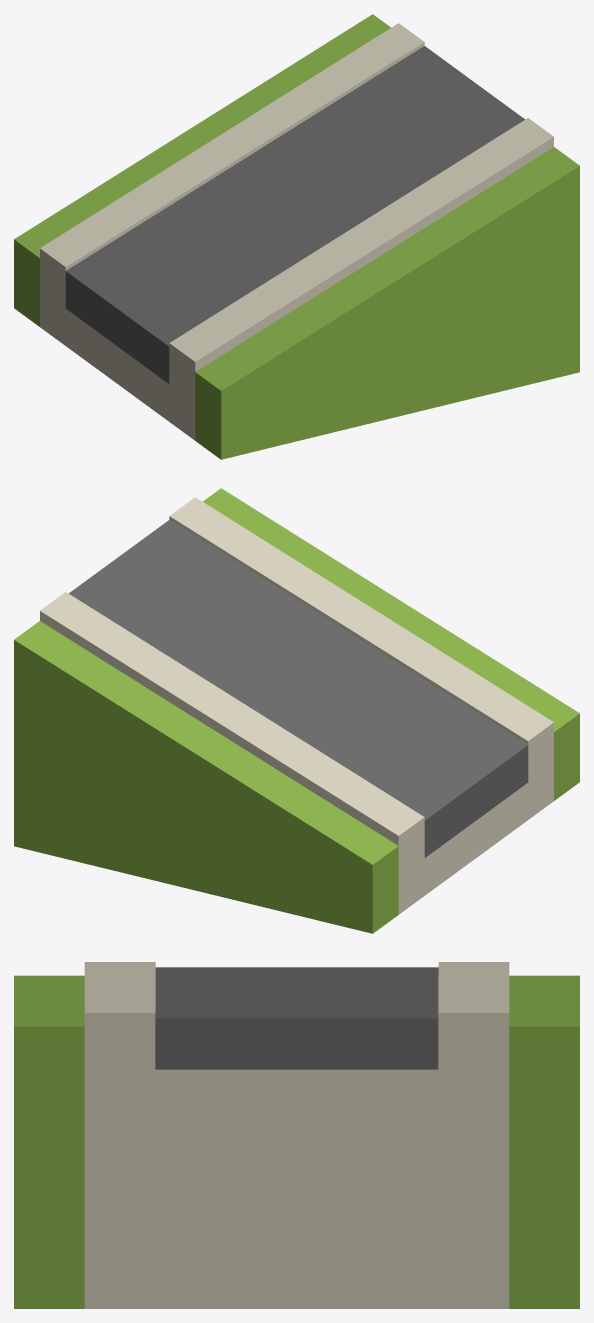
The model's file is tile071.obj.
3 renders of one model, top to bottom at view 1: azimuth 30°, elevation 25°; view 2: azimuth 150°, elevation 25°; view 3: azimuth 270°, elevation 25°, orthographic. The views are drawn at different scales.
Parts seen in each view (by area): view 1: tile071; view 2: tile071; view 3: tile071.
Boxes of the visible parts, x1,y1,x2,y2 form: tile071: (14, 14, 579, 459); tile071: (14, 488, 579, 933); tile071: (14, 962, 579, 1308).
Size of the model in its own units: 1 by 0.5767 by 1.
